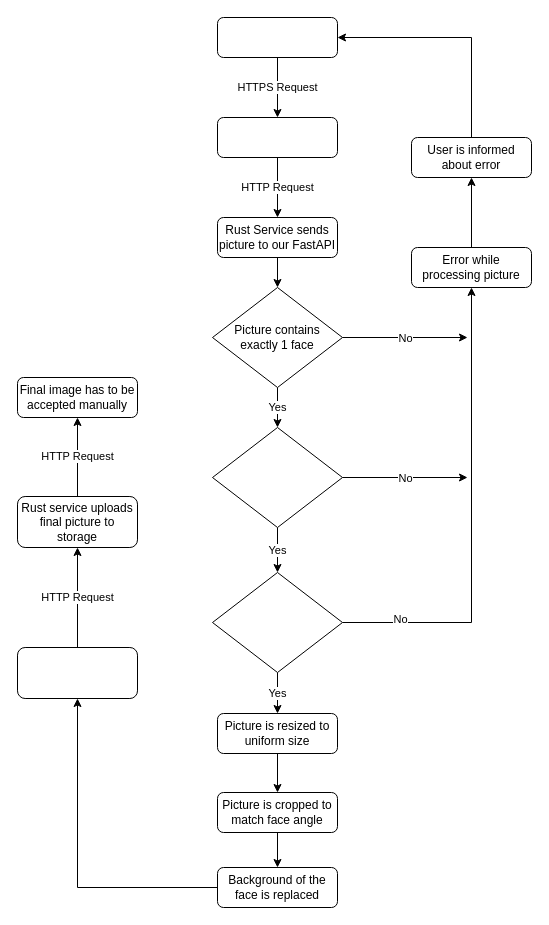
Some shapes in this 549 by 925 pixel diagram are drawn without their labels. The shapes that lost their labels are listed below. From the top down, each one's centre as x and y in pixels, then its label:
point (277, 37): User takes picture
point (277, 137): Picture uploaded to the Rust Service
point (277, 477): Face is oriented towards the camera
point (277, 622): Shoulder angle is between threshold
point (77, 672): Final picture is returned to Rust service
